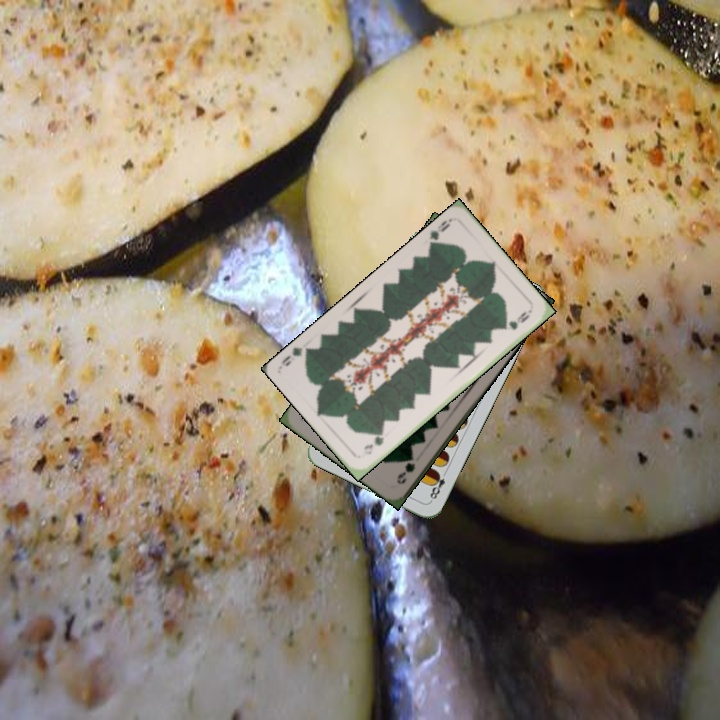E8: (426, 466, 450, 504)
G9: (425, 214, 455, 250), (392, 451, 418, 487), (360, 428, 387, 458)
